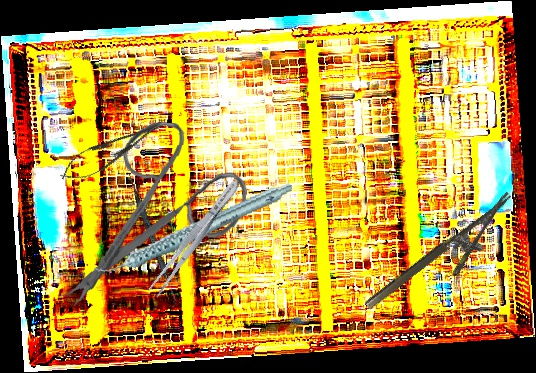Dressing Forceps: (145, 175, 245, 300)
Handpiece: (84, 181, 302, 276)
Iris Scissors: (62, 114, 253, 323)
Needle Holder: (362, 191, 530, 330), (55, 111, 169, 191)
Spatula Surgical: (124, 173, 182, 307)
